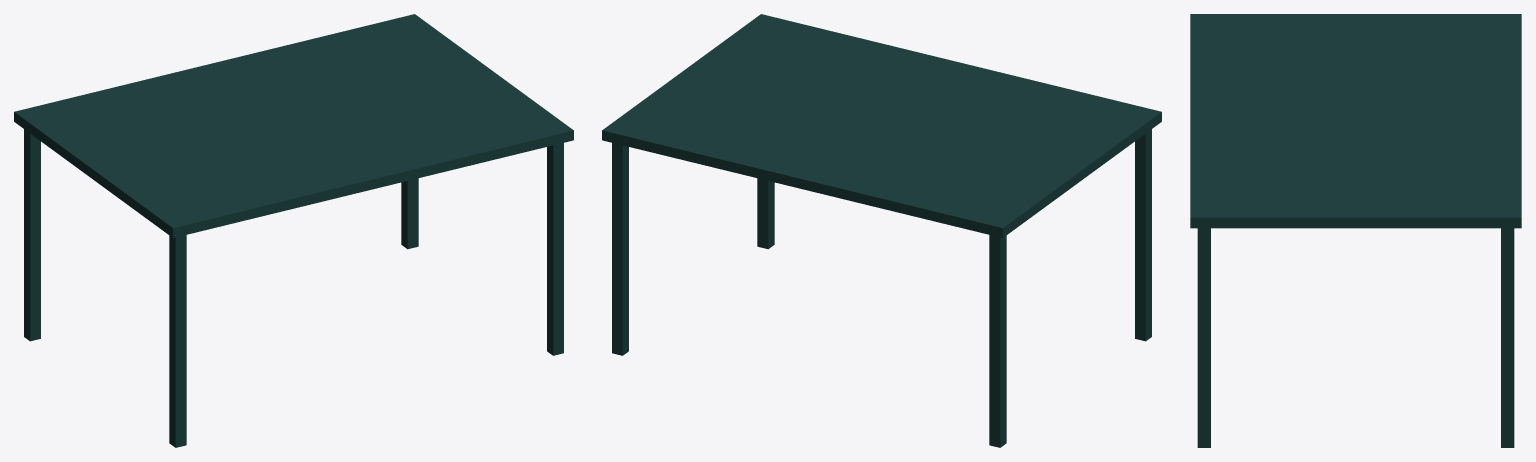
Rendered from Overhang.fbx.
3 renders of one model, left to right at view 1: azimuth 30°, elevation 25°; view 2: azimuth 150°, elevation 25°; view 3: azimuth 270°, elevation 25°, orthographic. The views are drawn at different scales.
Visible parts, largest first — view 1: Overhang; view 2: Overhang; view 3: Overhang.
Boxes of the visible parts, bbox=[...] form: Overhang: bbox=[14, 14, 573, 447]; Overhang: bbox=[602, 14, 1161, 447]; Overhang: bbox=[1190, 14, 1521, 447].
Bounding box in the file's own units: 657 × 351 × 452.
